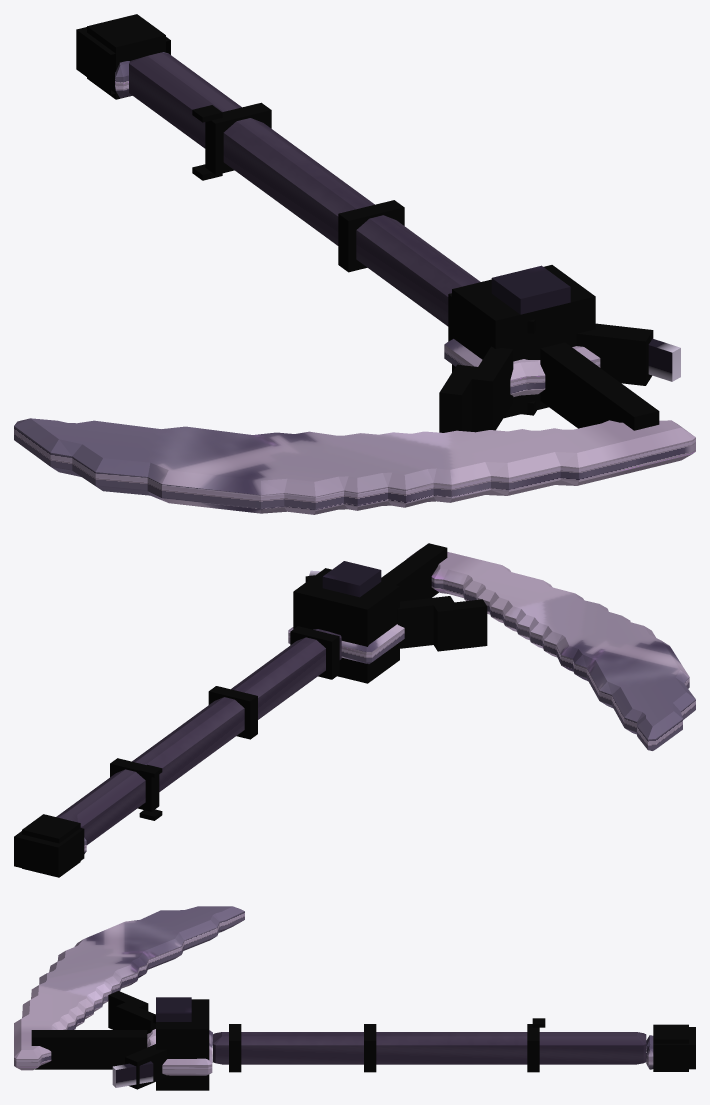
Rendered from doom_scythe.obj.
The picture shows the model from 3 angles, top to bottom: view 1: azimuth 30°, elevation 25°; view 2: azimuth 150°, elevation 25°; view 3: azimuth 270°, elevation 25°; orthographic projection. The views are drawn at different scales.
Visible parts, largest first — view 1: doom_scythe; view 2: doom_scythe; view 3: doom_scythe.
Part boxes in pixels (<box>): doom_scythe: <box>14,14,695,514</box>; doom_scythe: <box>14,543,695,877</box>; doom_scythe: <box>14,906,695,1090</box>.
Bounding box in the file's own units: 0.7065 × 0.1453 × 1.2.
